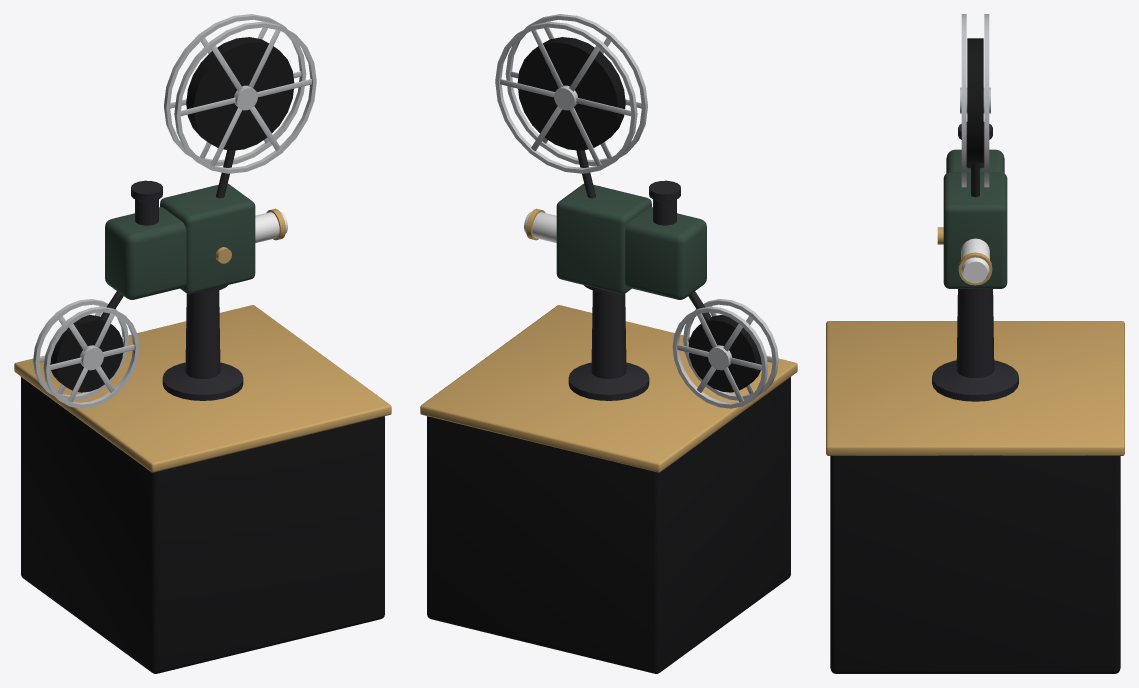
The model's file is projector_vintage.glb.
3 renders of one model, left to right at view 1: azimuth 30°, elevation 25°; view 2: azimuth 150°, elevation 25°; view 3: azimuth 270°, elevation 25°, orthographic. The views are drawn at different scales.
Parts seen in each view (by area): view 1: Plinth_LOD0, PlinthTop_LOD0, FeedFilm_LOD0, Head_LOD0, LampHouse_LOD0, Column_LOD0, TakeFilm_LOD0, FeedRim_LOD0, FeedRim_LOD0.001, TakeRim_LOD0, TakeRim_LOD0.001, Chimney_LOD0 (+1 smaller); view 2: Plinth_LOD0, PlinthTop_LOD0, FeedFilm_LOD0, Head_LOD0, LampHouse_LOD0, Column_LOD0, TakeFilm_LOD0, FeedRim_LOD0.001, FeedRim_LOD0, TakeRim_LOD0.001, TakeRim_LOD0, Chimney_LOD0 (+1 smaller); view 3: Plinth_LOD0, PlinthTop_LOD0, Head_LOD0, Column_LOD0, FeedFilm_LOD0, FeedRim_LOD0, FeedRim_LOD0.001, Lens_LOD0, LampHouse_LOD0.
Part boxes in pixels (x1,y1,x2,y2): Plinth_LOD0: (21,377,384,673); PlinthTop_LOD0: (14,305,391,472); FeedFilm_LOD0: (186,37,294,150); Head_LOD0: (160,184,255,294); LampHouse_LOD0: (105,207,186,299); Column_LOD0: (162,285,243,400); TakeFilm_LOD0: (50,315,123,392); FeedRim_LOD0: (174,21,316,173); FeedRim_LOD0.001: (164,14,306,165); TakeRim_LOD0: (43,306,139,408); TakeRim_LOD0.001: (33,299,128,400); Chimney_LOD0: (131,180,162,225); Plinth_LOD0: (427,377,790,673); PlinthTop_LOD0: (420,305,797,472); FeedFilm_LOD0: (517,37,625,150); Head_LOD0: (556,184,651,294); LampHouse_LOD0: (625,207,706,299); Column_LOD0: (568,285,649,400); TakeFilm_LOD0: (688,315,761,392); FeedRim_LOD0.001: (495,21,637,173); FeedRim_LOD0: (505,14,647,165); TakeRim_LOD0.001: (672,306,768,408); TakeRim_LOD0: (683,299,778,400); Chimney_LOD0: (649,180,680,225); Plinth_LOD0: (830,456,1120,673); PlinthTop_LOD0: (826,321,1124,455); Head_LOD0: (943,172,1007,288); Column_LOD0: (932,289,1018,401); FeedFilm_LOD0: (967,38,983,162); FeedRim_LOD0: (961,14,966,187); FeedRim_LOD0.001: (984,14,989,187); Lens_LOD0: (961,238,989,283); LampHouse_LOD0: (946,149,1004,173).
Size of the model in its own units: 1.22 by 2.33 by 1.03.
